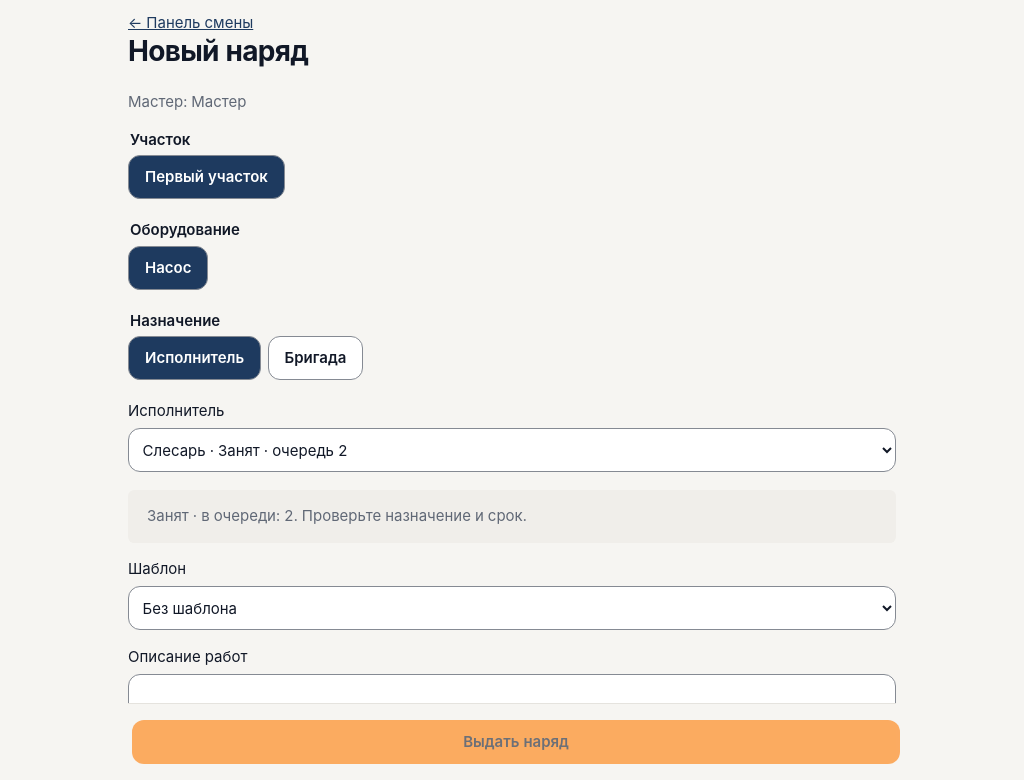
Test case: selects a template while retaining QR equipment and manual description
Later steps or results of the test are not shown.
Select "Устранение видимой течи" in the dropdown named "template_id" at (512, 608), box [128,586,896,630]
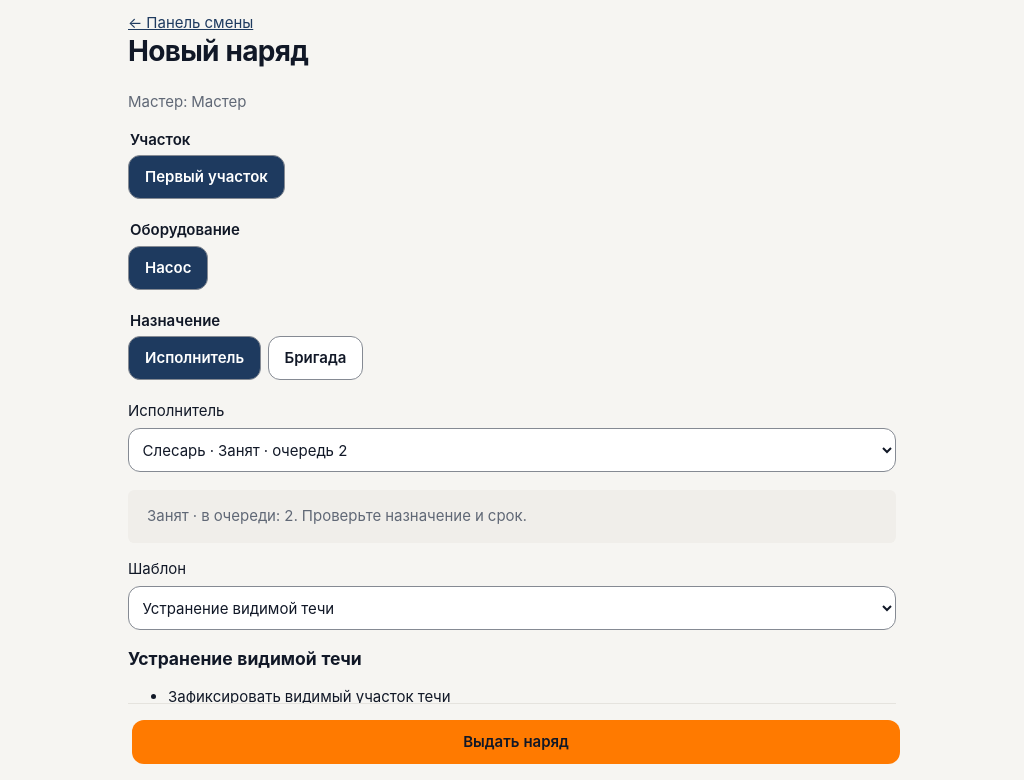
Expected: the text "Зафиксировать видимый участок течи" is shown, [168,687,451,706]
